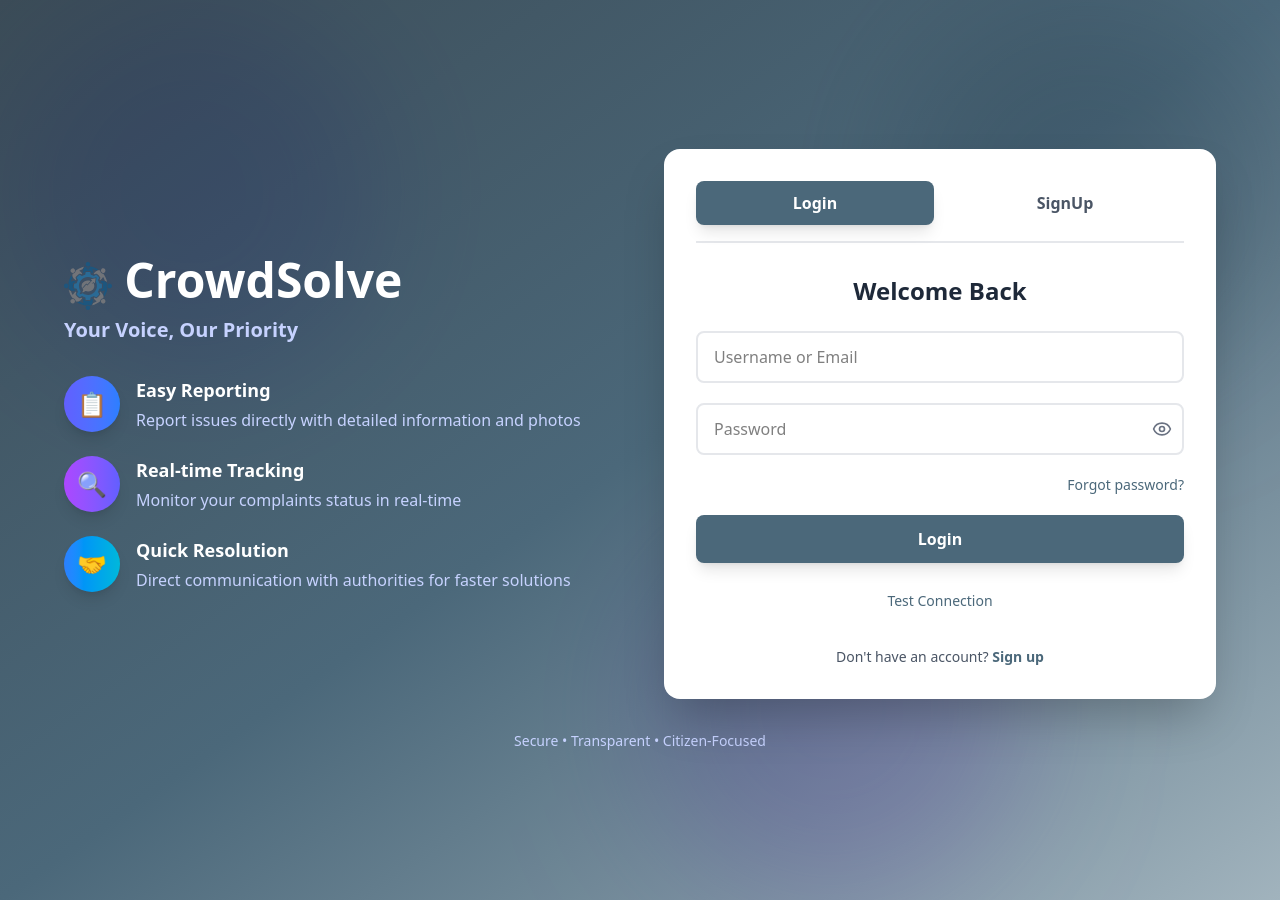
Test: LoginForm - Full Coverage › handles 403 forbidden error
Type "unverified" into the field with placeholder "Username or Email" at (940, 357), box [696,331,1184,383]
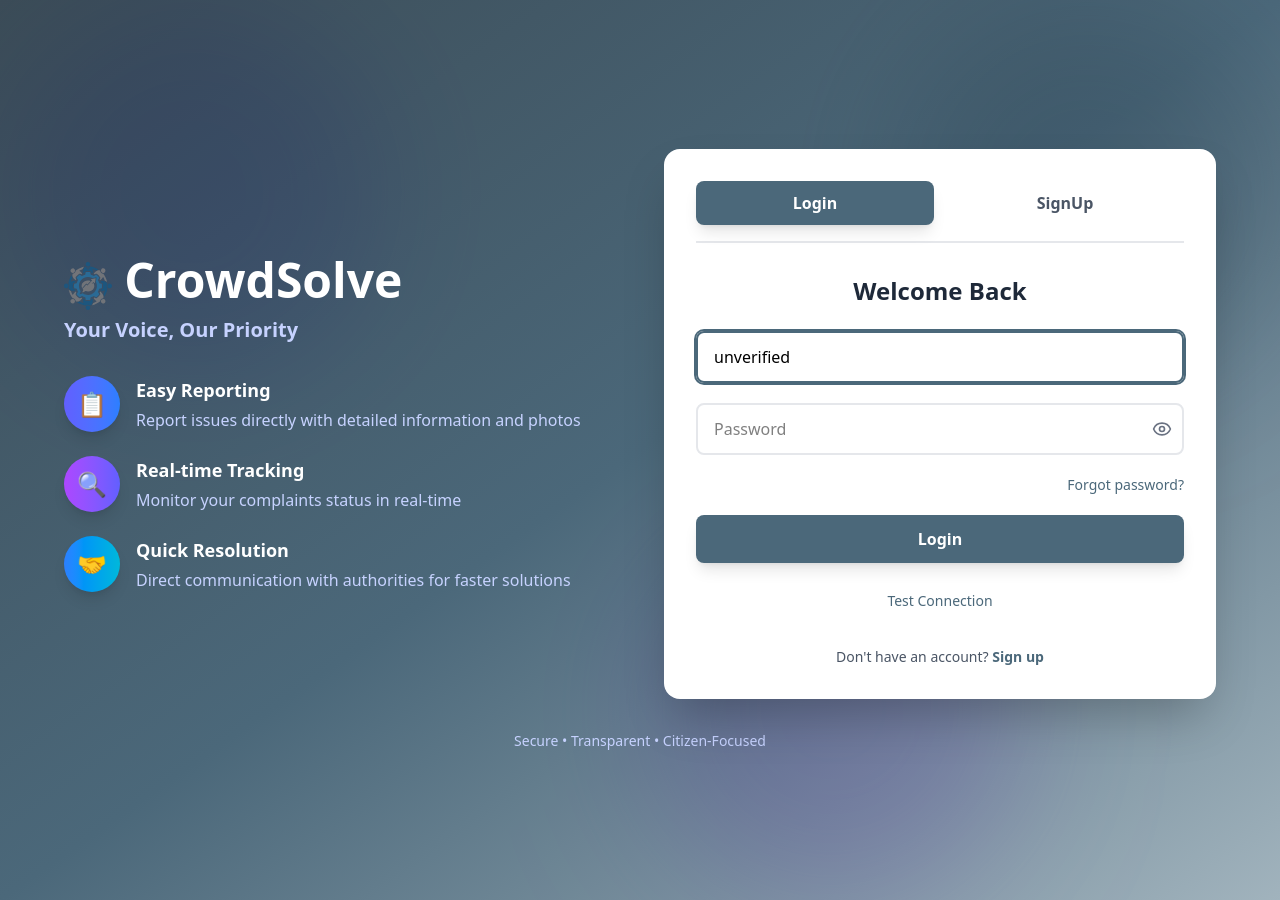
Type "pass" into the password field with placeholder "Password" at (940, 429), box [696,403,1184,455]
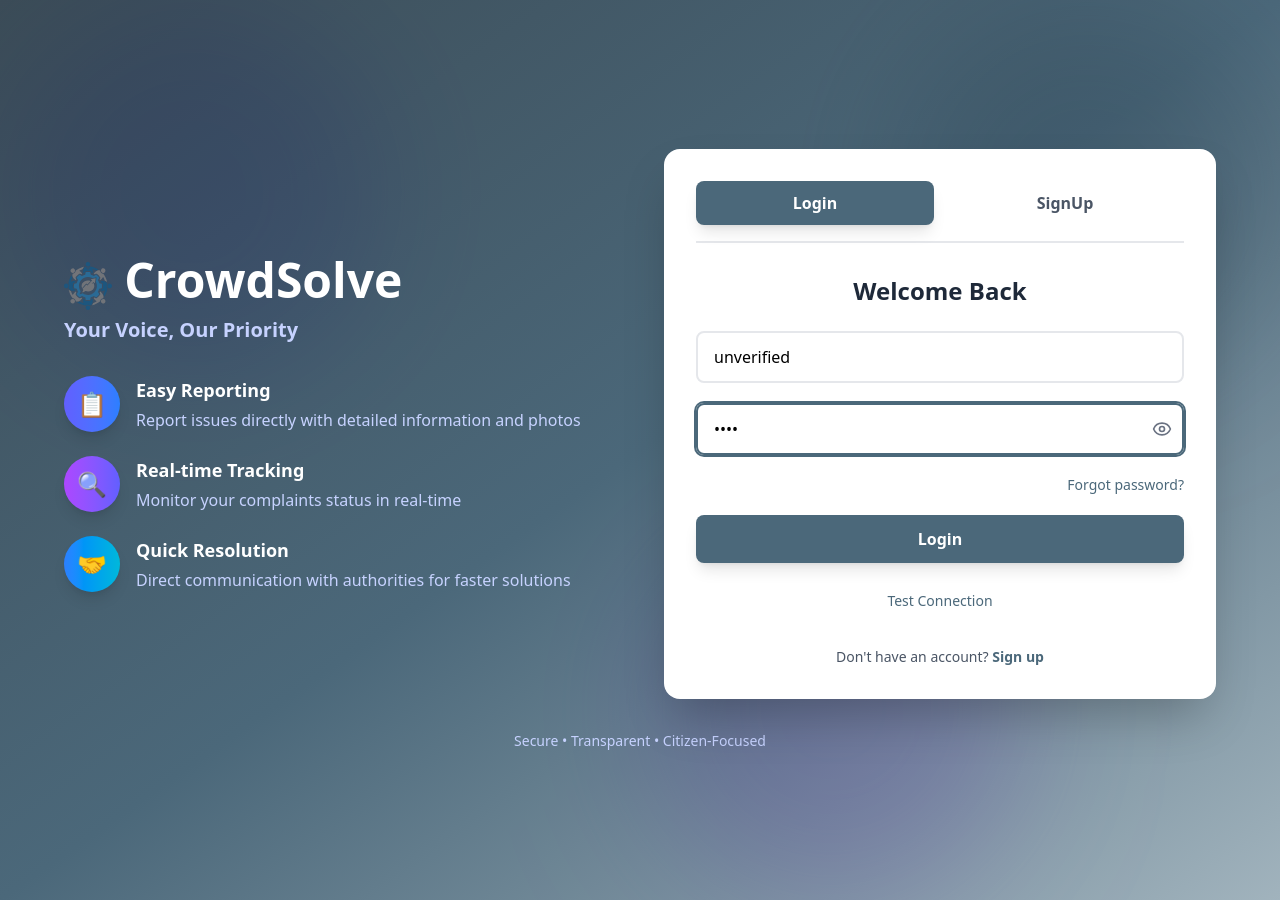
Click the button "Login" below "Welcome Back" at (940, 539), box [696,515,1184,563]
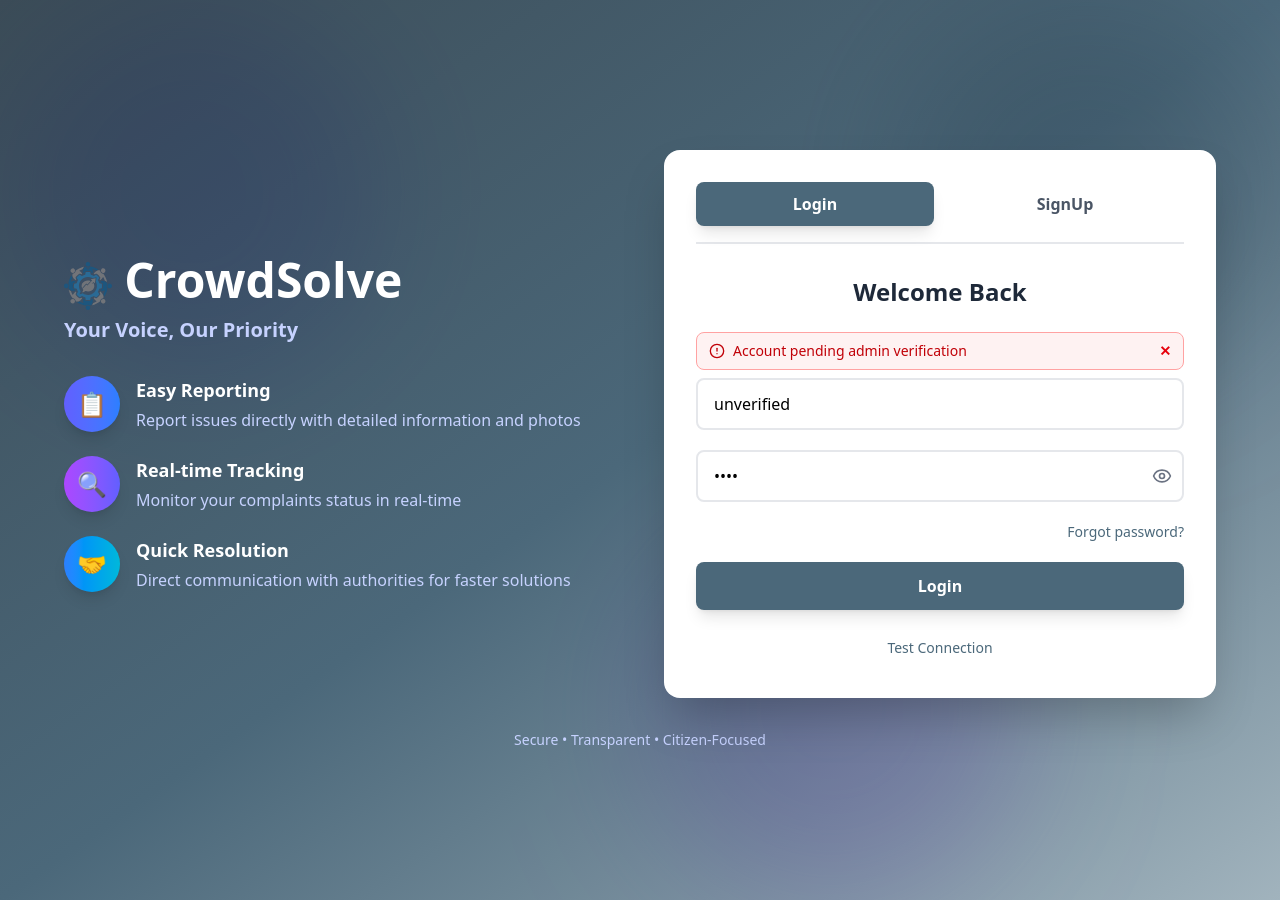
Result: the text "Account pending admin verification" is shown at [733,341,967,361]
